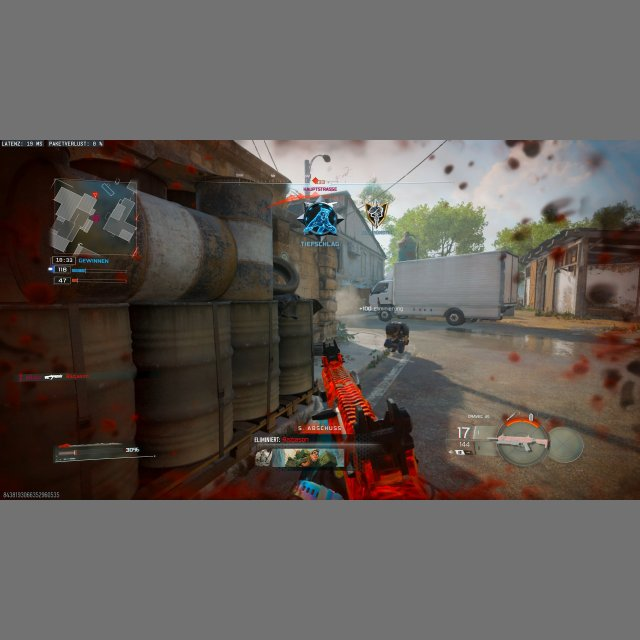head: (385, 321, 407, 343)
player: (365, 320, 410, 370)
